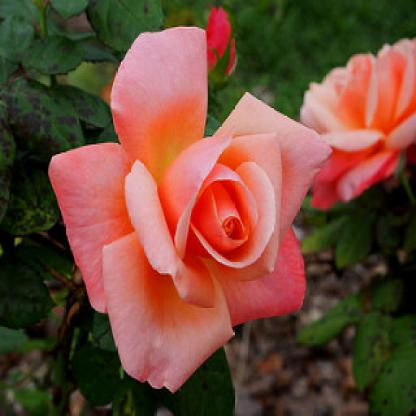Rose-Mawar: (36, 19, 333, 389), (300, 22, 412, 211)
